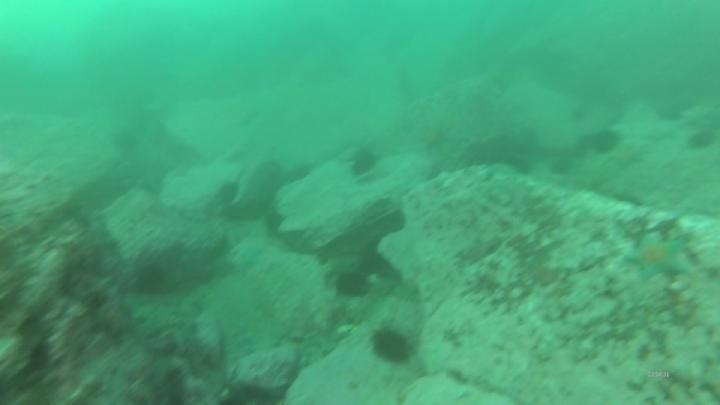echinus: (369, 325, 416, 368), (357, 248, 397, 283), (132, 261, 170, 297), (332, 268, 371, 300), (347, 146, 381, 180), (588, 127, 622, 158), (109, 127, 143, 156), (685, 127, 717, 154), (214, 179, 242, 208), (261, 208, 288, 237)
starfish: (623, 233, 692, 284), (227, 234, 270, 273), (608, 141, 648, 172)
